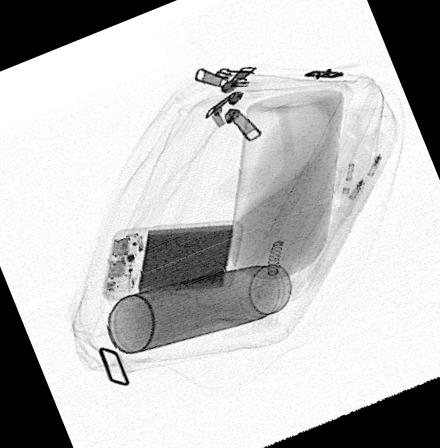Powerbank: (100, 218, 245, 303)
